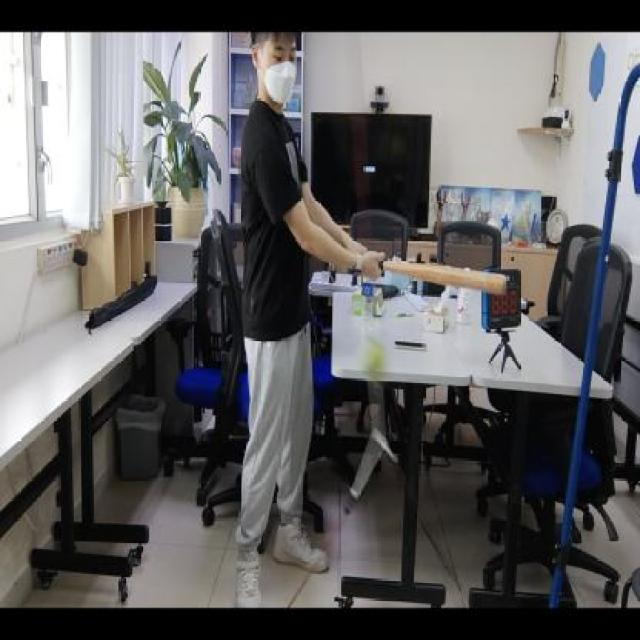baseball: (356, 334, 389, 384)
